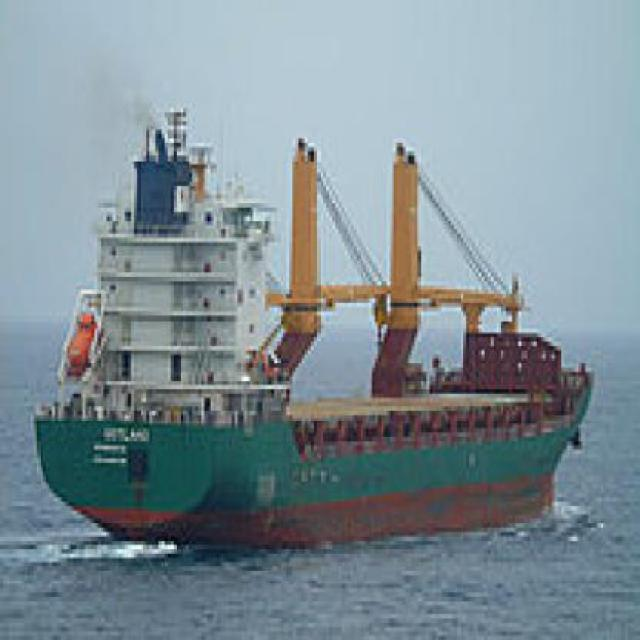container: (22, 96, 593, 555)
